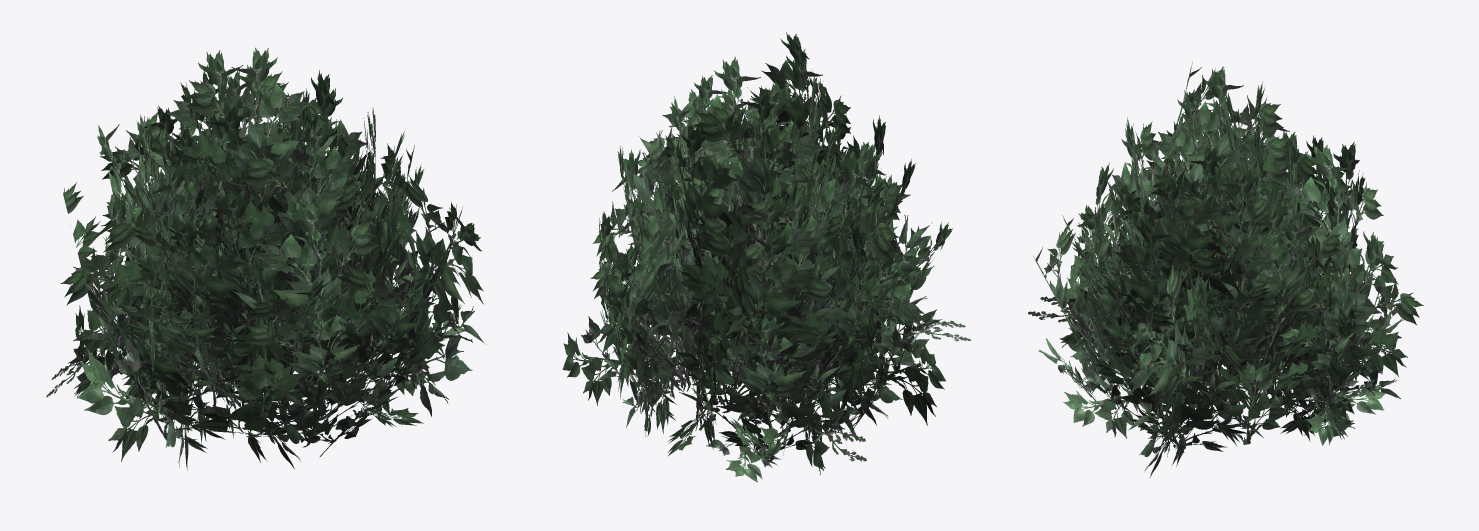
File: Bush.glb
The picture shows the model from 3 angles, left to right: view 1: azimuth 30°, elevation 25°; view 2: azimuth 150°, elevation 25°; view 3: azimuth 270°, elevation 25°; orthographic projection. The views are drawn at different scales.
Visible parts, largest first — view 1: Bushcover_LOD0; view 2: Bushcover_LOD0; view 3: Bushcover_LOD0.
Part boxes in pixels (x1,y1,x2,y2): Bushcover_LOD0: [46, 47, 486, 470]; Bushcover_LOD0: [562, 32, 970, 482]; Bushcover_LOD0: [1028, 62, 1423, 477].
Size of what is drawn, in the model's own units: 18.55 by 19.58 by 19.18.
1 material, 1 textured.
